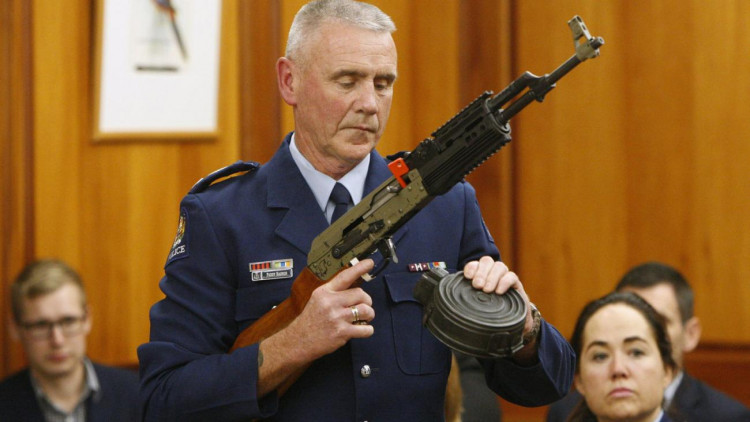gun: (227, 13, 606, 366)
